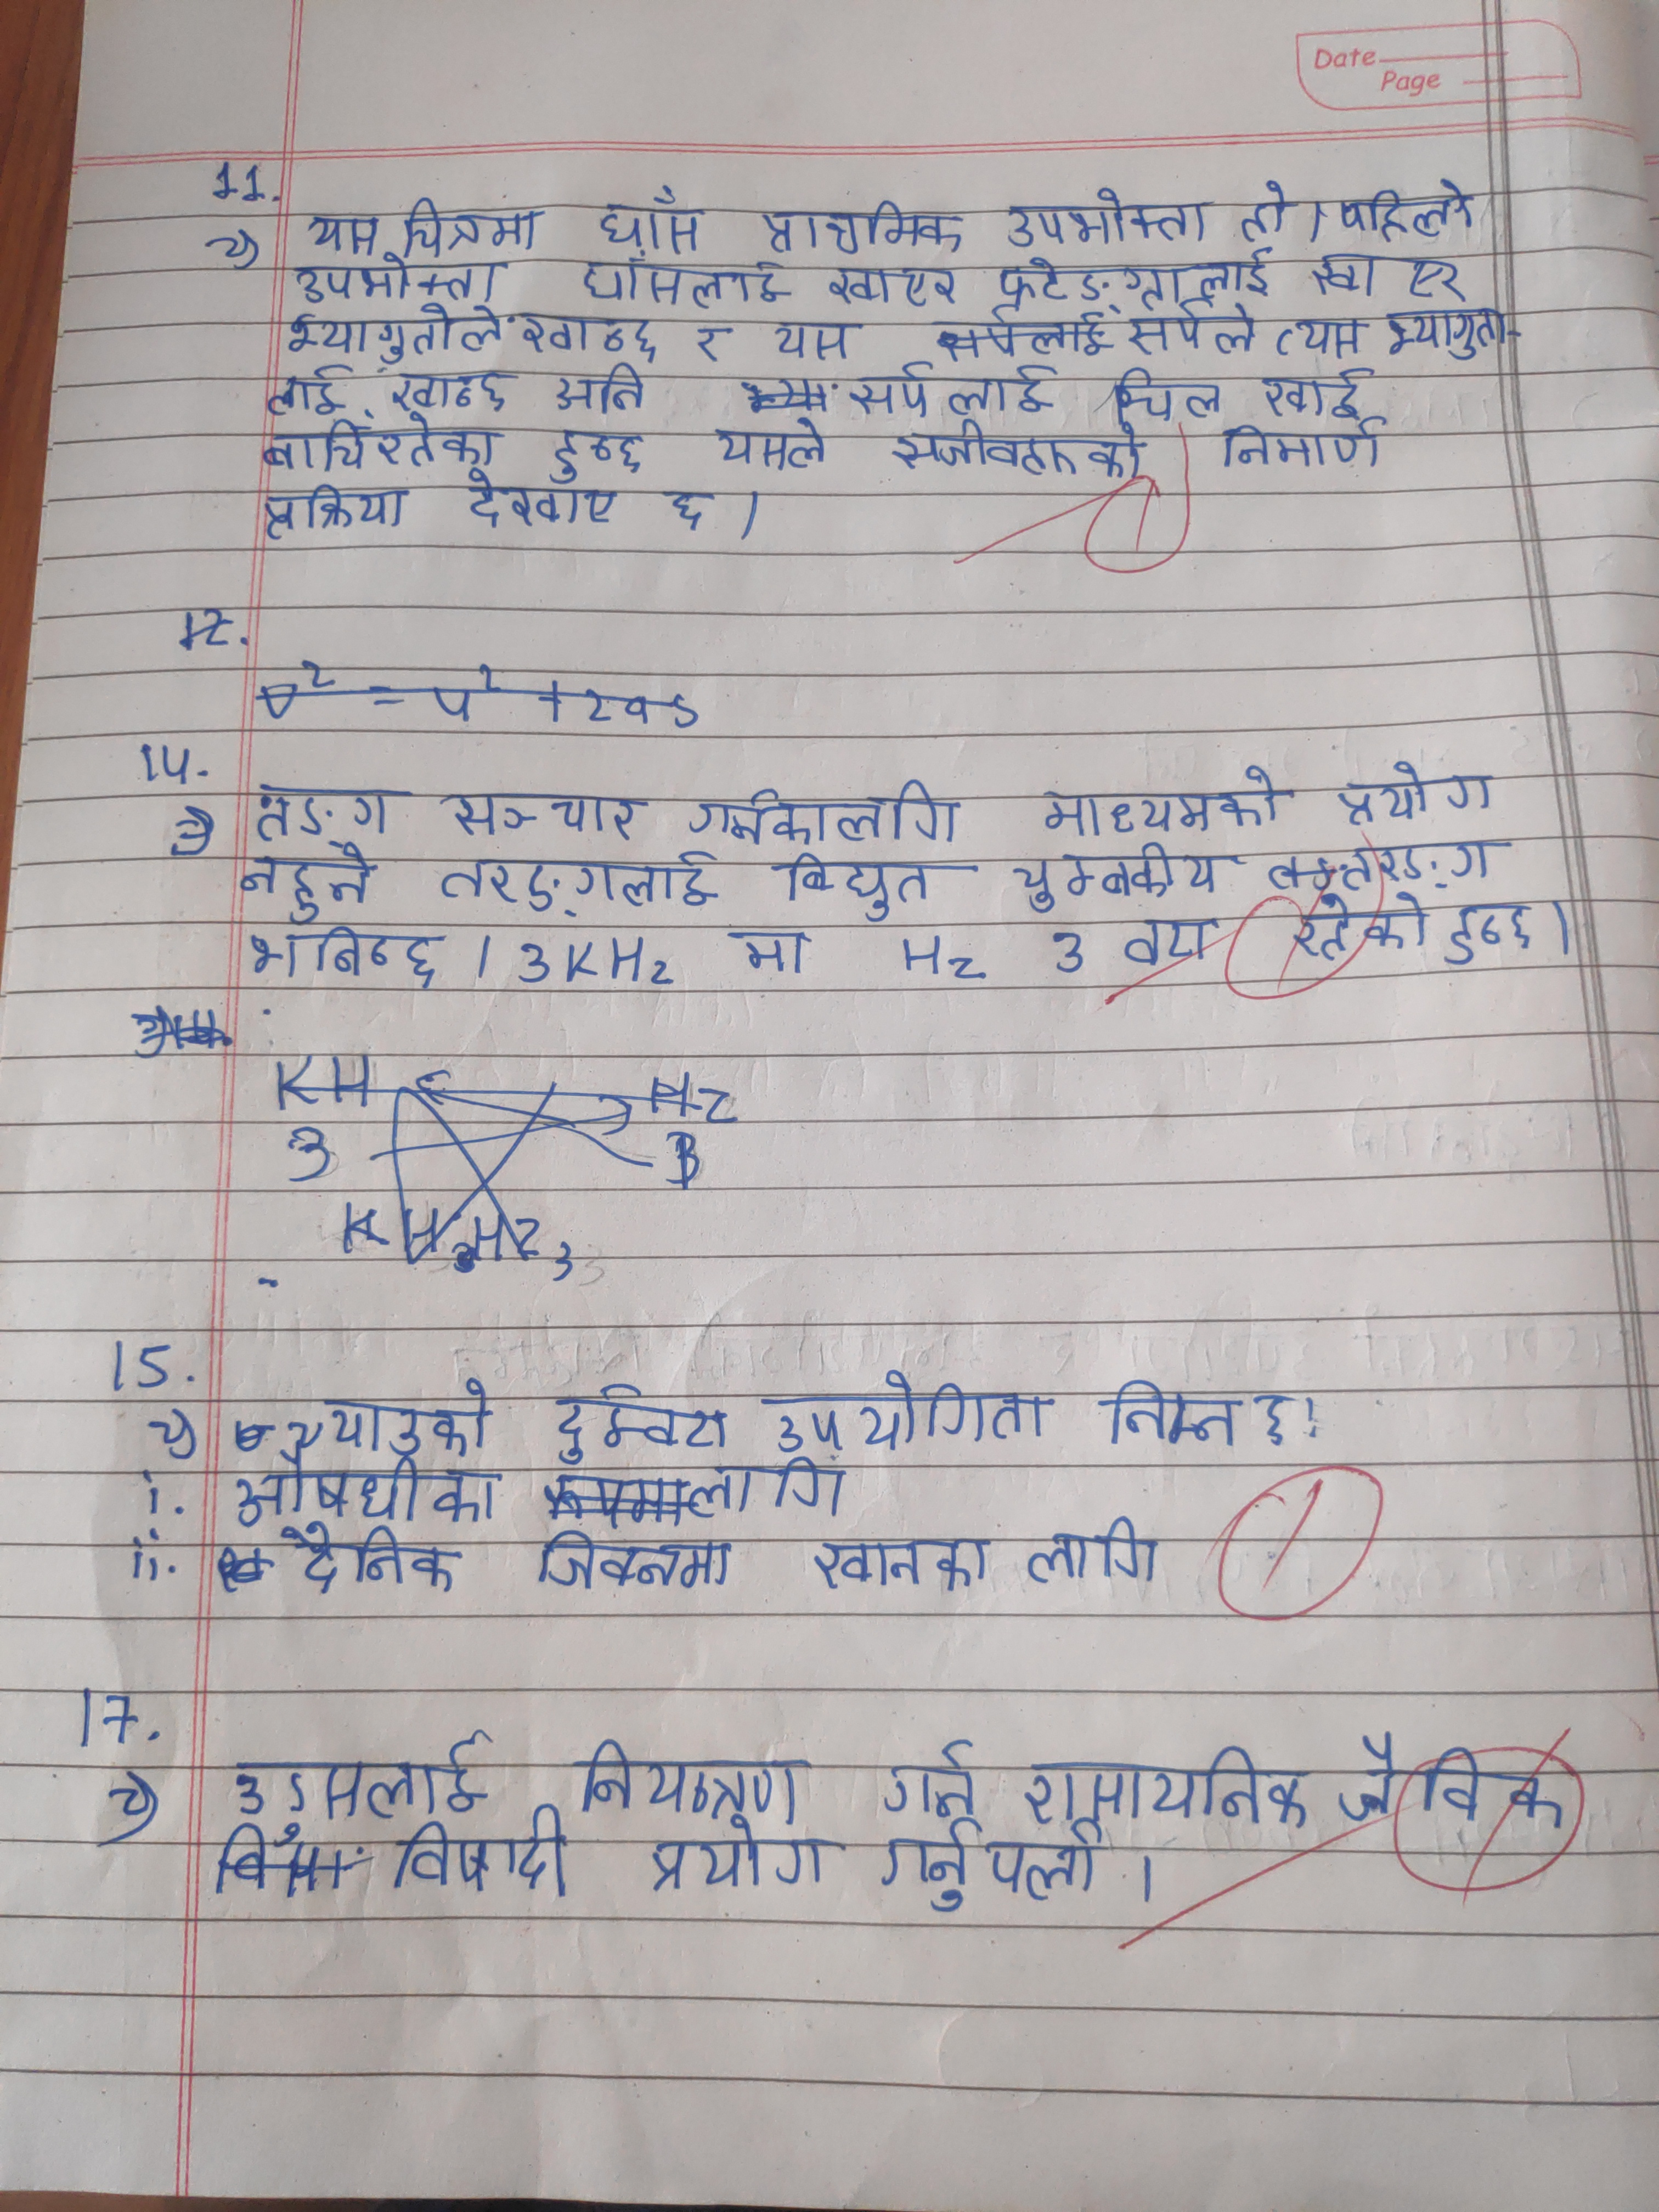text: (760, 1366, 1061, 1453), (1025, 1743, 1314, 1831), (228, 1737, 486, 1818), (1344, 1733, 1563, 1829), (437, 846, 716, 920), (575, 1737, 805, 1820), (1039, 765, 1295, 840), (277, 1374, 498, 1460), (232, 1458, 495, 1527), (687, 782, 964, 846), (889, 415, 1150, 482), (380, 1820, 577, 1905), (547, 1379, 734, 1465), (1009, 840, 1230, 911), (993, 247, 1281, 301), (641, 1817, 830, 1892), (242, 923, 443, 993), (842, 359, 1063, 421), (284, 301, 505, 362), (260, 413, 497, 469), (1002, 188, 1216, 249), (282, 1524, 460, 1597), (532, 1529, 739, 1592), (1100, 1374, 1246, 1461), (756, 197, 969, 256), (580, 251, 791, 308), (775, 850, 941, 921), (1333, 759, 1497, 827), (685, 1461, 852, 1527), (460, 470, 620, 538), (1019, 1515, 1168, 1588), (237, 850, 380, 925), (439, 791, 640, 843), (983, 1818, 1103, 1905), (1338, 833, 1504, 894), (251, 780, 396, 848), (1290, 897, 1434, 965), (807, 1538, 993, 1588), (1307, 244, 1471, 301), (1337, 178, 1476, 244), (261, 481, 410, 542), (880, 1820, 976, 1912), (401, 195, 545, 256), (289, 261, 505, 301), (1378, 303, 1513, 366), (1222, 423, 1382, 475), (1124, 301, 1262, 361), (880, 1737, 976, 1818), (594, 188, 706, 258), (824, 256, 964, 312), (514, 310, 657, 364), (1439, 900, 1544, 967), (711, 418, 835, 474), (1112, 366, 1223, 421), (1253, 368, 1363, 423), (389, 361, 509, 411), (723, 920, 819, 982), (547, 361, 652, 415), (1122, 918, 1222, 974), (547, 427, 645, 482), (767, 312, 854, 366), (267, 362, 350, 418), (1274, 314, 1368, 361), (303, 207, 385, 256), (1234, 176, 1293, 242), (662, 482, 713, 535), (1258, 1385, 1293, 1447), (687, 315, 728, 359)
